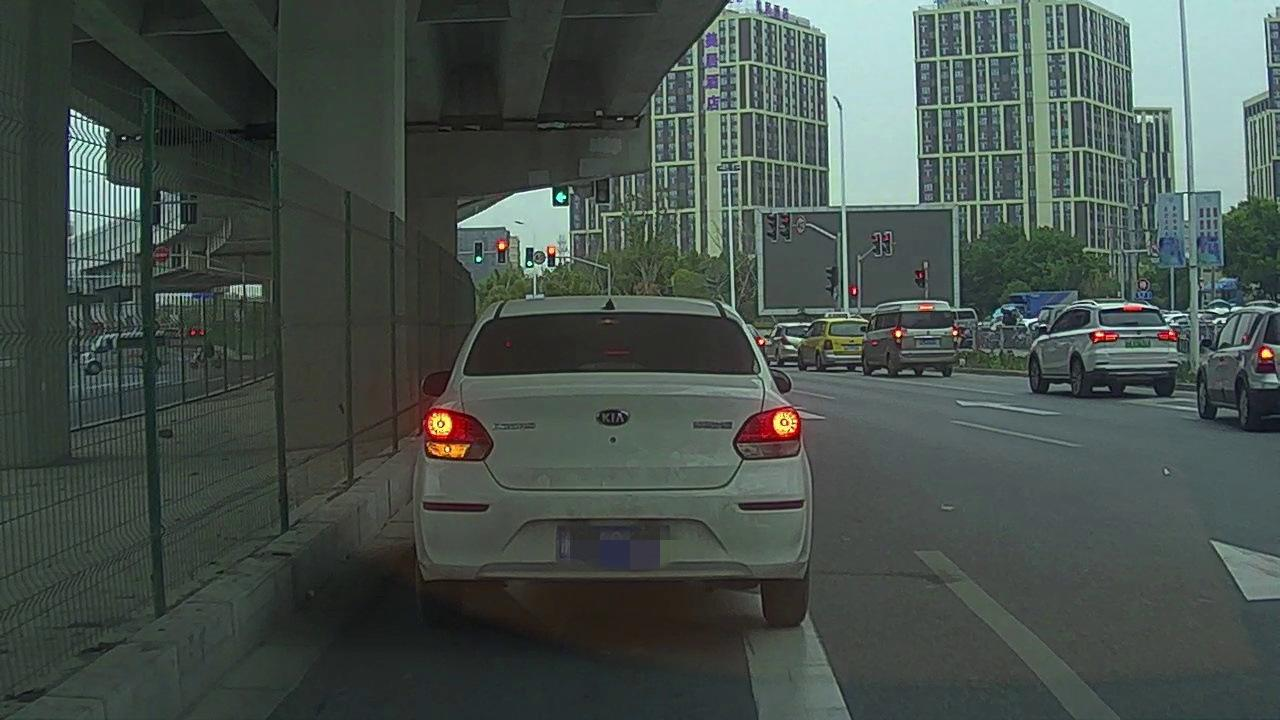traffic_light: (596, 178, 609, 204), (554, 186, 567, 206), (473, 241, 483, 263), (497, 239, 506, 261), (548, 244, 556, 264), (526, 245, 532, 266)
